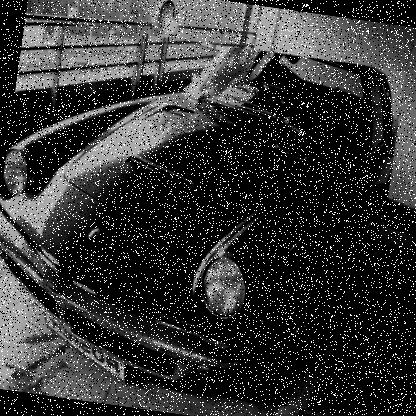Car: (0, 17, 406, 415)
